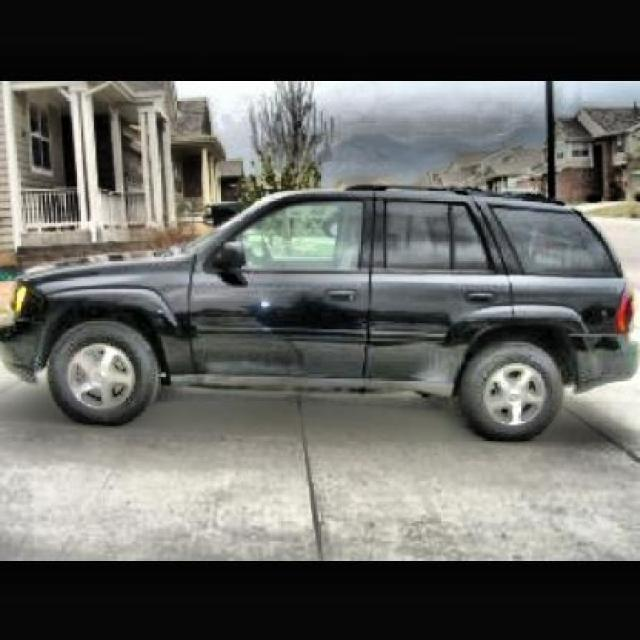black: (0, 188, 640, 468)
